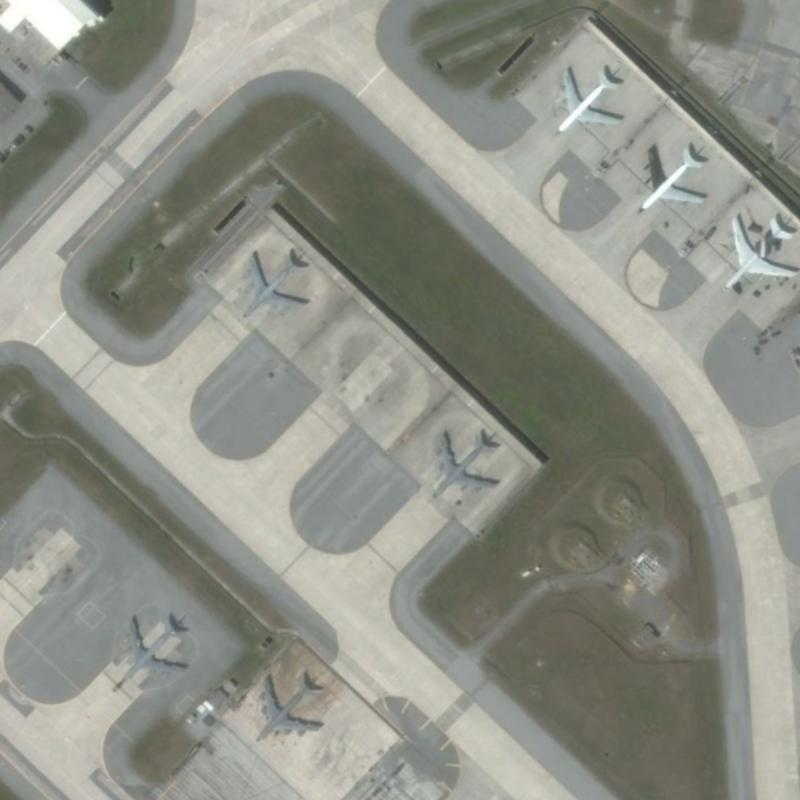A11: (548, 55, 628, 138), (633, 134, 710, 218)
A14: (107, 604, 199, 696), (227, 242, 316, 327), (250, 662, 328, 749), (426, 418, 504, 504)
A7: (717, 199, 799, 293)
